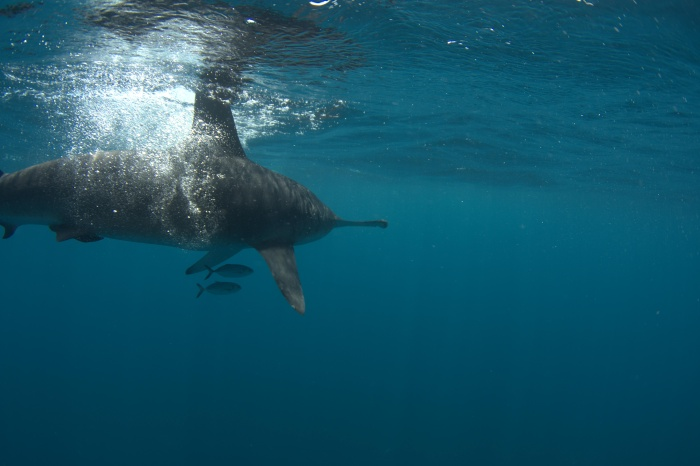Hammer: (1, 85, 410, 319)
